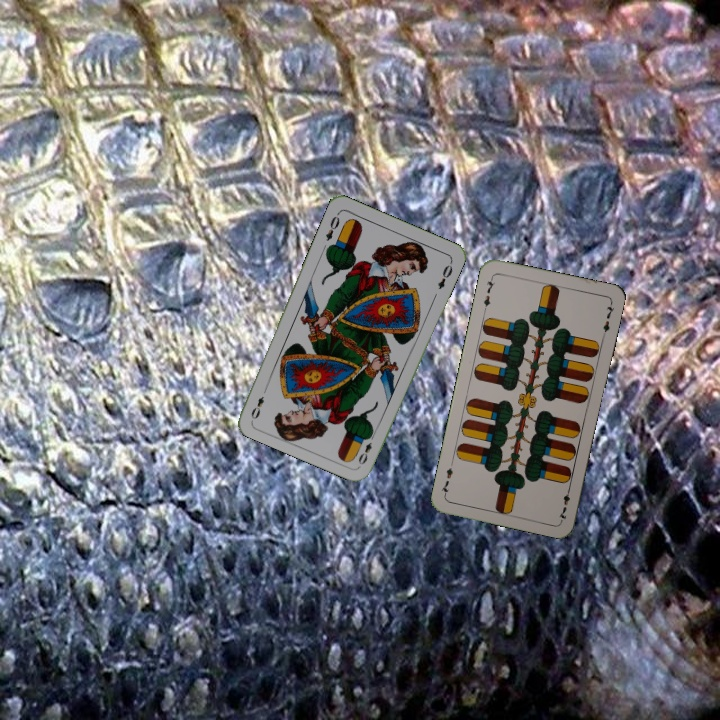E7: (479, 273, 498, 313), (555, 483, 573, 523)
EO: (354, 429, 378, 467), (322, 209, 342, 244)
